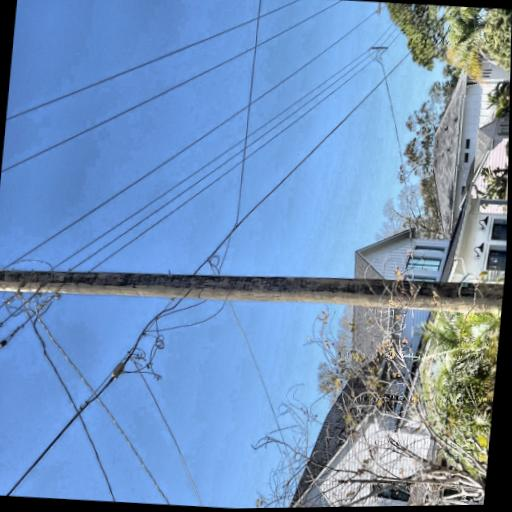pole: (45, 0, 137, 501)
street light: (97, 18, 211, 118)
